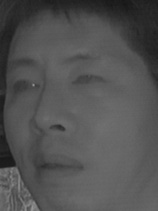eye: (71, 69, 106, 92), (9, 76, 40, 97)
mouth: (29, 146, 84, 185)
